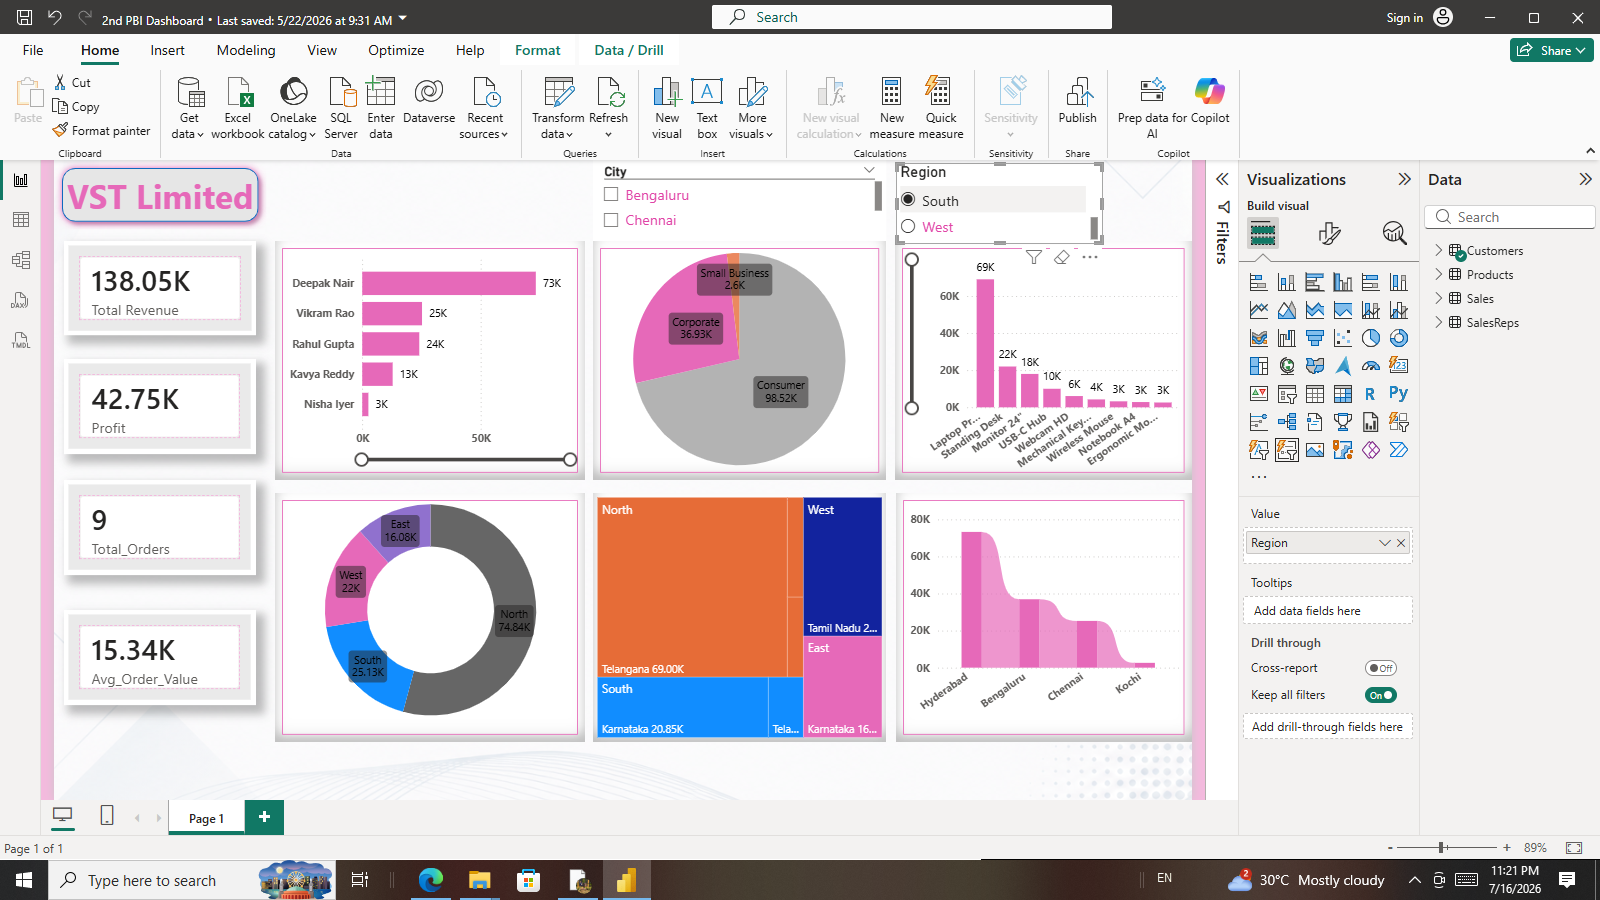

What the dashboard file says about the page in this screenshot:
{"tool":"powerbi","page":{"name":"Page 1","canvas":[1280,720],"ordinal":0},"visuals":[{"type":"shape","box":[0,0,239,78.4],"z":0},{"type":"cardVisual","fields":{"Data":["Customers.Total Revenue"]},"box":[11.2,91.2,216.2,106.2],"z":1000},{"type":"cardVisual","fields":{"Data":["Customers.Profit"]},"box":[11.6,223.6,215.9,106.7],"z":2000},{"type":"cardVisual","fields":{"Data":["Customers.Total_Orders"]},"box":[11.6,359.8,215.9,106.7],"z":3000},{"type":"cardVisual","fields":{"Data":["Customers.Avg_Order_Value"]},"box":[11.6,506.3,215.9,106.7],"z":4000},{"type":"shape","box":[248.8,91.2,348.8,268.8],"z":5000},{"type":"shape","box":[606.2,91.2,330,268.8],"z":6000},{"type":"shape","box":[248.8,375,348.8,280],"z":7000},{"type":"shape","box":[606.2,375,330,280],"z":8000},{"type":"shape","box":[946.2,91.2,333.8,268.8],"z":9000},{"type":"shape","box":[947.5,375,332.5,280],"z":10000},{"type":"clusteredBarChart","fields":{"Category":["Customers.CustomerName"],"Y":["Sum(Sales.TotalAmount)"]},"box":[258.8,98.8,338.8,248.8],"z":11000},{"type":"ribbonChart","fields":{"Category":["Customers.City"],"Y":["Sum(Sales.TotalAmount)"]},"box":[953.8,390,318.8,248.8],"z":12000},{"type":"pieChart","fields":{"Category":["Customers.Segment"],"Y":["Sum(Sales.TotalAmount)"]},"box":[542.5,53.8,457.5,340],"z":13000},{"type":"donutChart","fields":{"Category":["SalesReps.Region"],"Y":["Sum(Sales.TotalAmount)"]},"box":[226.2,321.2,395,368.8],"z":14000},{"type":"treemap","fields":{"Group":["SalesReps.Region","Customers.City"],"Details":["Customers.State"],"Values":["Sum(Sales.TotalAmount)"]},"box":[606.2,375,330,280],"z":15000},{"type":"columnChart","fields":{"Category":["Products.ProductName"],"Y":["Sum(Sales.TotalAmount)"]},"box":[953.8,98.8,318.8,261.2],"z":16000},{"type":"listSlicer","fields":{"Values":["Customers.Region"]},"box":[947.2,3.4,232.9,91.1],"z":17000},{"type":"slicer","fields":{"Values":["Customers.City"]},"box":[606.4,0,329.6,91.1],"z":18000}]}

Visuals, with their boxes on the page's 1280x720 design canvas (x1, y1, x2, y2). These are canvas units, not pixel positions in the 1600x900 screenshot, which may show the page scaled, cropped or inside an application window:
shape: <region>0, 0, 239, 78</region>
cardVisual - Customers.Total Revenue: <region>11, 91, 227, 197</region>
cardVisual - Customers.Profit: <region>12, 224, 228, 330</region>
cardVisual - Customers.Total_Orders: <region>12, 360, 228, 466</region>
cardVisual - Customers.Avg_Order_Value: <region>12, 506, 228, 613</region>
shape: <region>249, 91, 598, 360</region>
shape: <region>606, 91, 936, 360</region>
shape: <region>249, 375, 598, 655</region>
shape: <region>606, 375, 936, 655</region>
shape: <region>946, 91, 1280, 360</region>
shape: <region>948, 375, 1280, 655</region>
clusteredBarChart - Customers.CustomerName x Sum(Sales.TotalAmount): <region>259, 99, 598, 348</region>
ribbonChart - Customers.City x Sum(Sales.TotalAmount): <region>954, 390, 1273, 639</region>
pieChart - Customers.Segment x Sum(Sales.TotalAmount): <region>542, 54, 1000, 394</region>
donutChart - SalesReps.Region x Sum(Sales.TotalAmount): <region>226, 321, 621, 690</region>
treemap - SalesReps.Region x Customers.City: <region>606, 375, 936, 655</region>
columnChart - Products.ProductName x Sum(Sales.TotalAmount): <region>954, 99, 1273, 360</region>
listSlicer - Customers.Region: <region>947, 3, 1180, 94</region>
slicer - Customers.City: <region>606, 0, 936, 91</region>
